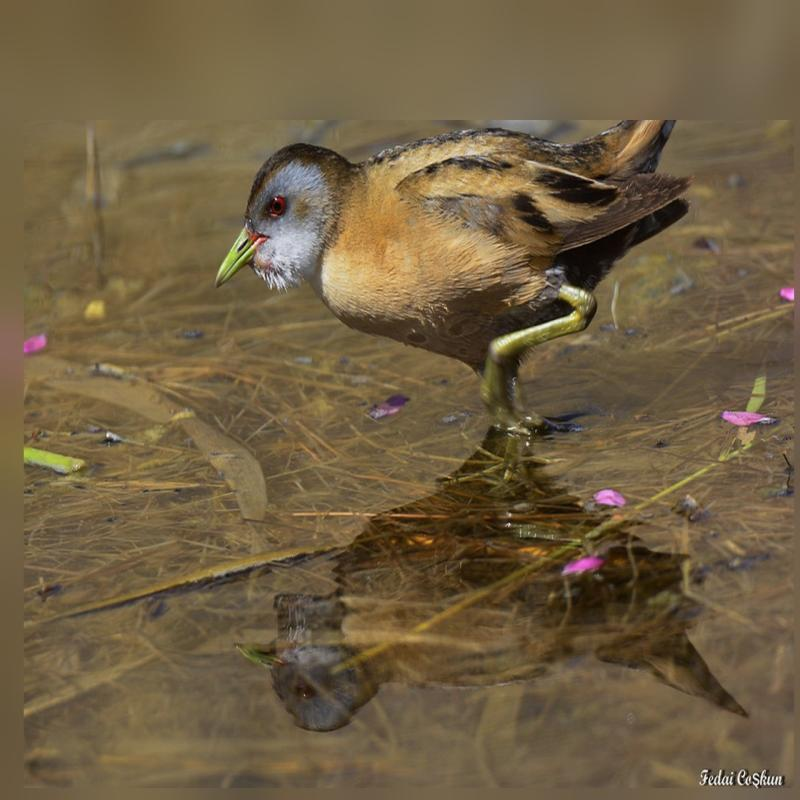little crake: (198, 116, 700, 380)
